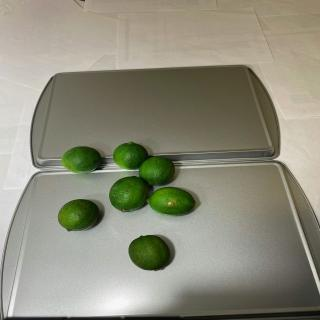Lemon: (128, 234, 170, 271), (146, 187, 196, 216), (58, 198, 100, 232), (109, 176, 148, 212), (138, 156, 176, 186), (62, 146, 102, 174), (113, 141, 148, 170)
